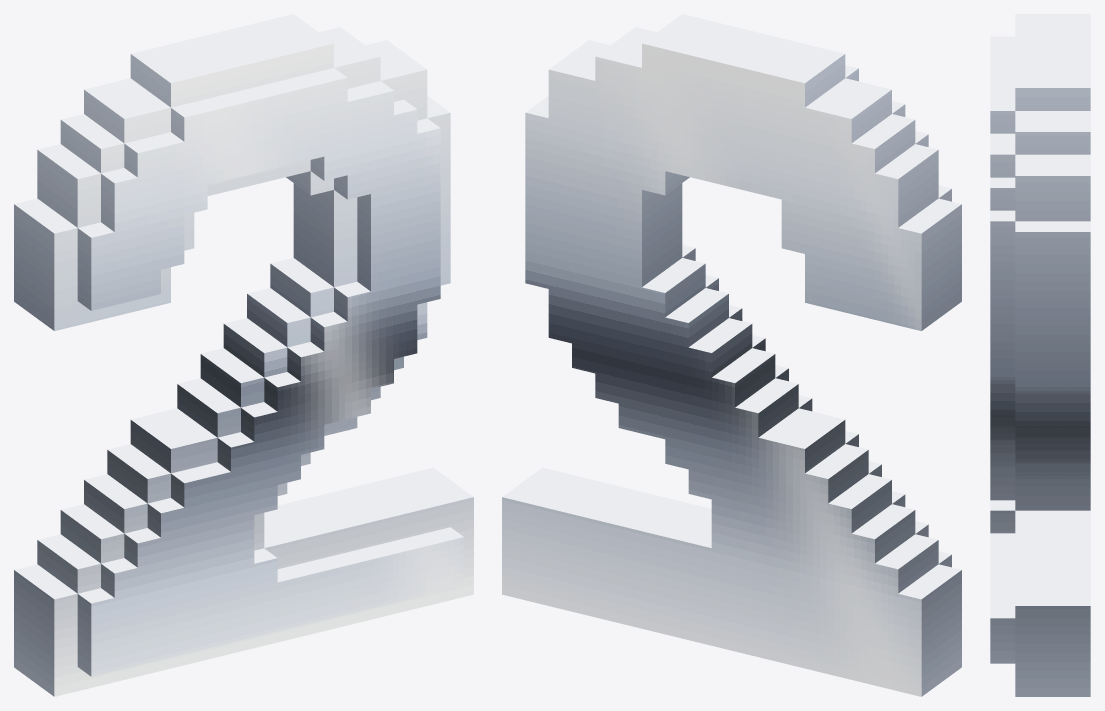
3 views of the same model, side by side, from view 1: azimuth 30°, elevation 25°; view 2: azimuth 150°, elevation 25°; view 3: azimuth 270°, elevation 25° (orthographic). The views are drawn at different scales.
Visible parts, largest first — view 1: Letter 2; view 2: Letter 2; view 3: Letter 2.
Boxes of the visible parts, x1,y1,x2,y2 form: Letter 2: [14, 14, 473, 696]; Letter 2: [502, 14, 961, 696]; Letter 2: [990, 14, 1090, 696].
Size of the model in its own units: 1.12 by 1.5 by 0.25.
1 material, 1 textured.
